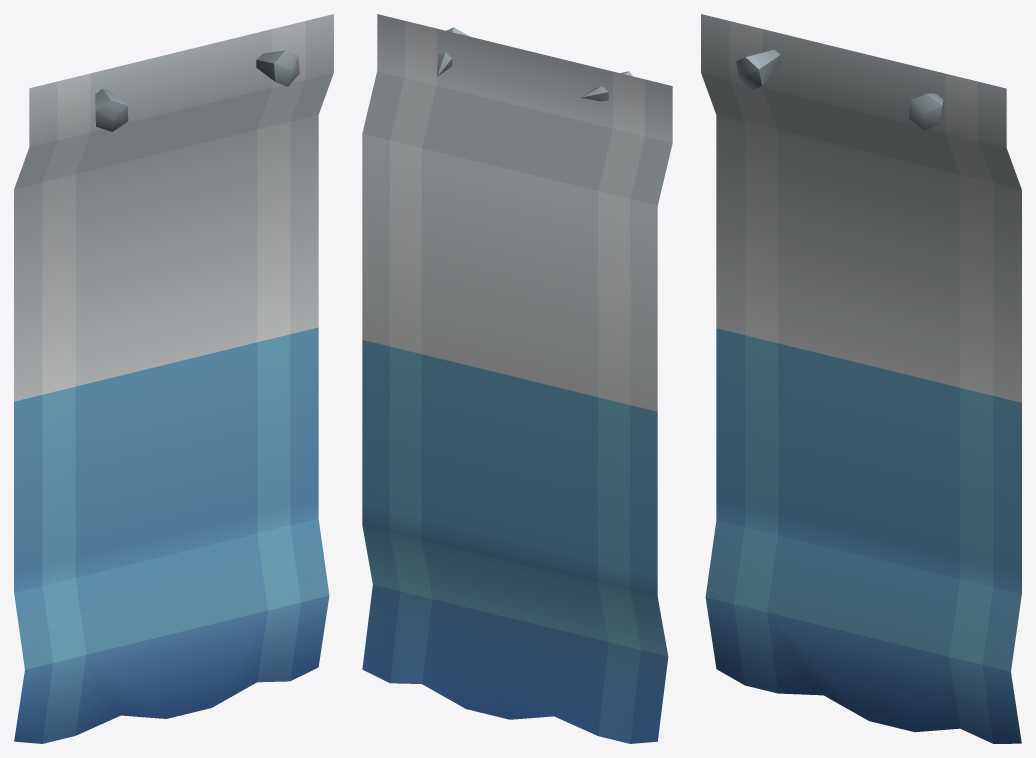
Rendered from dungeon-banner-blue.glb.
3 views of the same model, side by side, from view 1: azimuth 30°, elevation 25°; view 2: azimuth 150°, elevation 25°; view 3: azimuth 330°, elevation 25° (orthographic). The views are drawn at different scales.
Parts seen in each view (by area): view 1: dungeon-banner-blue; view 2: dungeon-banner-blue; view 3: dungeon-banner-blue.
Part boxes in pixels (x1,y1,x2,y2): dungeon-banner-blue: [14, 14, 333, 743]; dungeon-banner-blue: [362, 14, 672, 743]; dungeon-banner-blue: [701, 14, 1021, 743].
Size of the model in its own units: 1.12 by 2.4 by 0.2338.
1 material, 1 textured.
